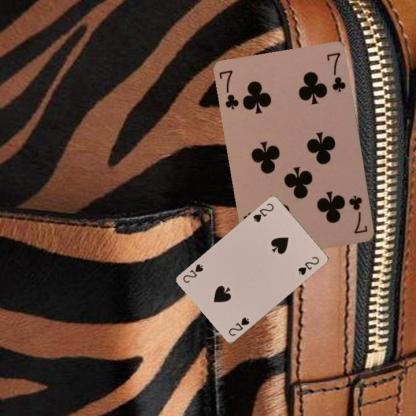2s: (250, 201, 275, 224), (226, 315, 251, 337)
7c: (217, 68, 240, 112), (347, 192, 369, 235)
